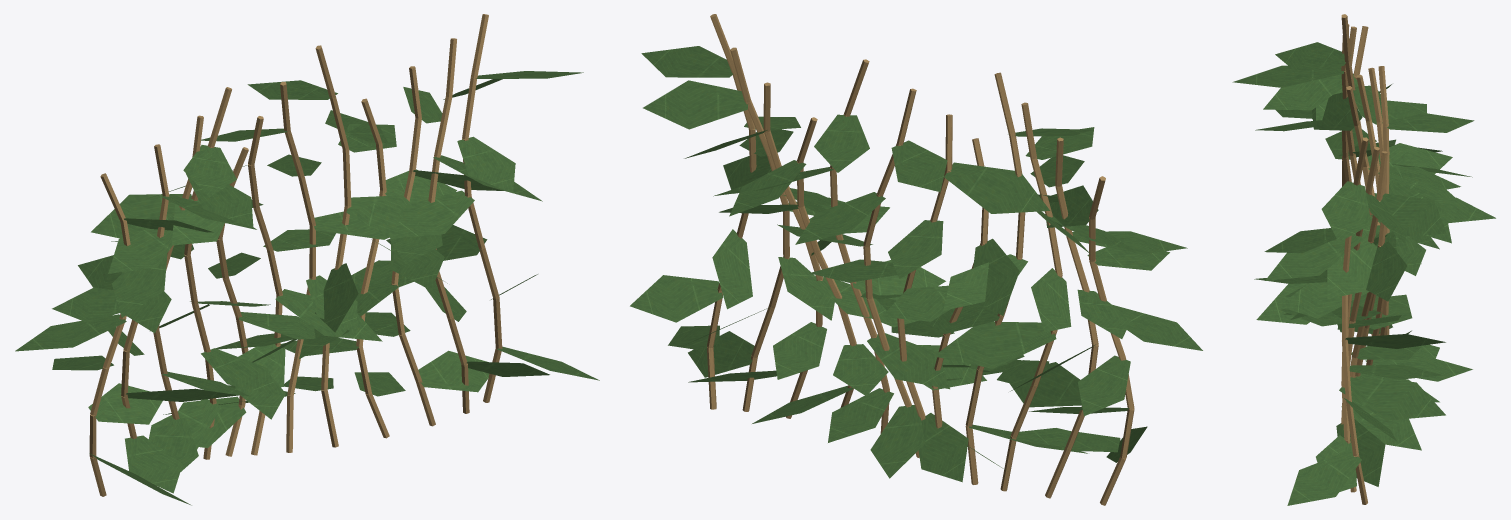
File: en-010_vine_cluster_set__dense.obj
The picture shows the model from 3 angles, left to right: view 1: azimuth 30°, elevation 25°; view 2: azimuth 150°, elevation 25°; view 3: azimuth 270°, elevation 25°; orthographic projection. The views are drawn at different scales.
Visible parts, largest first — view 1: en-010_vine_cluster_set__dense; view 2: en-010_vine_cluster_set__dense; view 3: en-010_vine_cluster_set__dense.
Part boxes in pixels (box(x1,y1,x2,y2)): en-010_vine_cluster_set__dense: box(15, 14, 599, 505); en-010_vine_cluster_set__dense: box(630, 14, 1202, 505); en-010_vine_cluster_set__dense: box(1232, 14, 1495, 505).
Bounding box in the file's own units: 1.58 × 1.05 × 0.686.
Materials: 2 (2 with a texture image).
